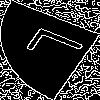L: (24, 25, 97, 72)
